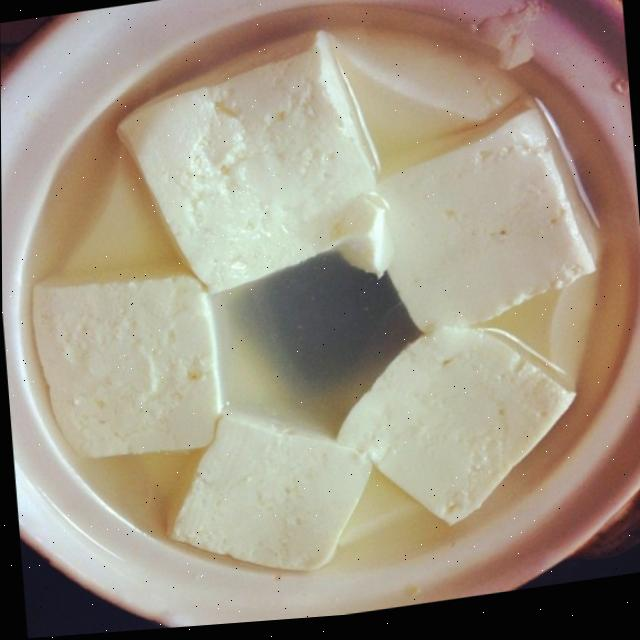豆腐料理: (0, 0, 640, 635)
